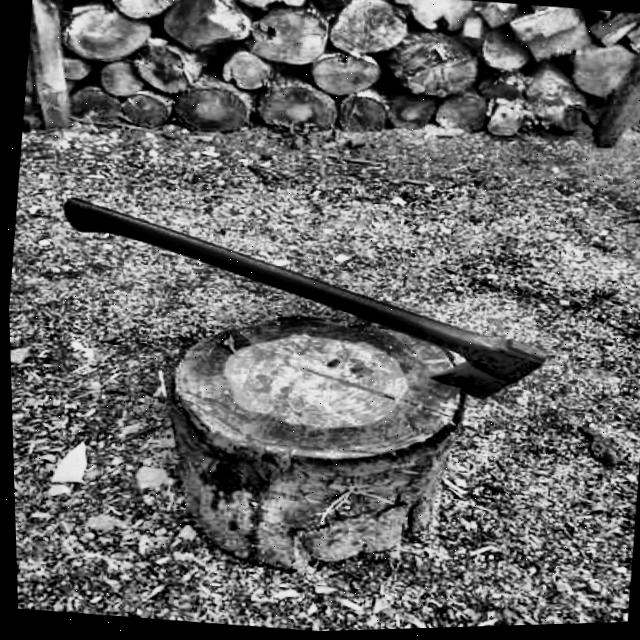kapak: (34, 163, 605, 429)
